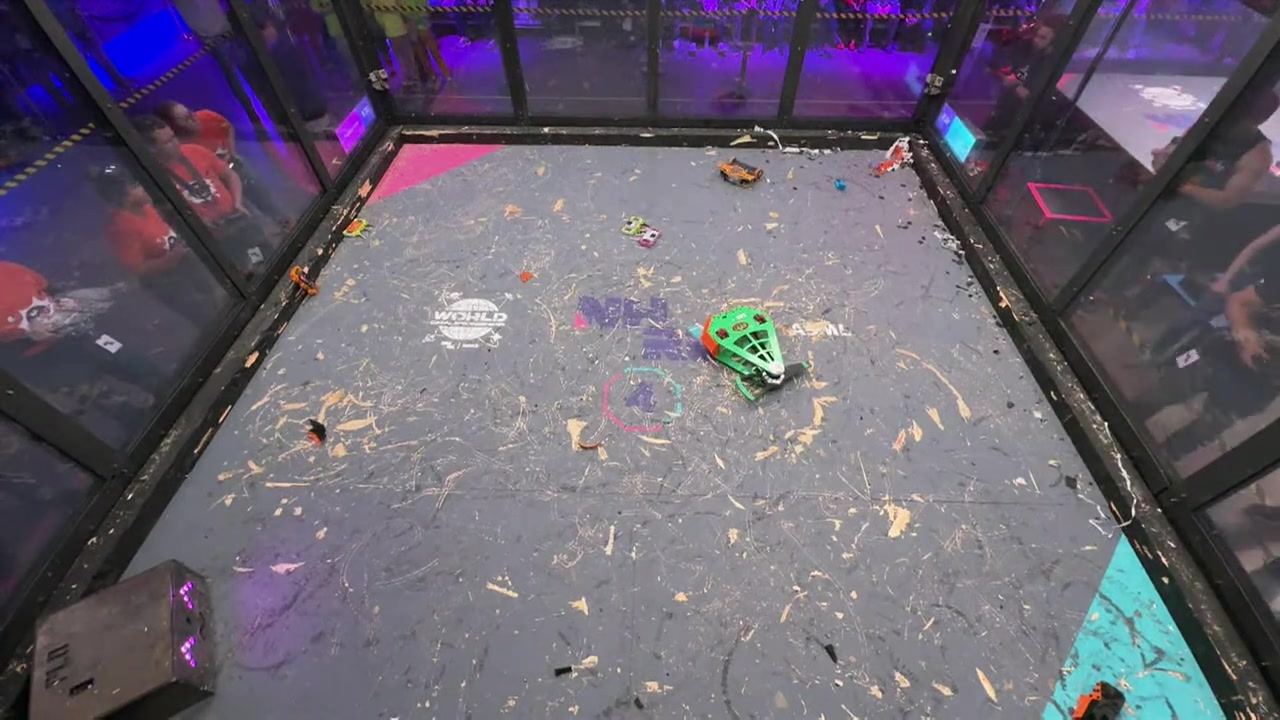combatbot: (703, 304, 782, 378), (718, 158, 763, 188)
debris: (1073, 681, 1124, 720), (874, 137, 917, 175), (308, 418, 326, 443), (835, 180, 845, 189)
housebot: (27, 560, 214, 720)
minibot: (291, 267, 317, 297), (342, 217, 365, 237), (639, 229, 661, 248), (621, 217, 641, 234)
